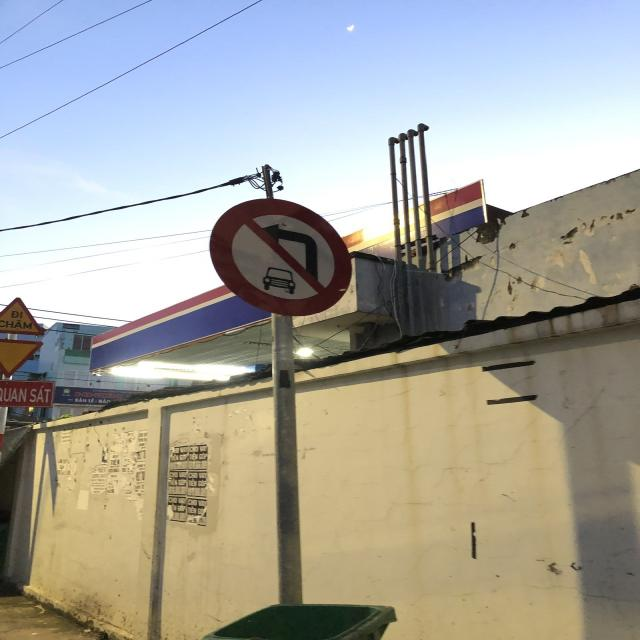Bien bao cam xe o to re trai: (202, 184, 355, 319)
